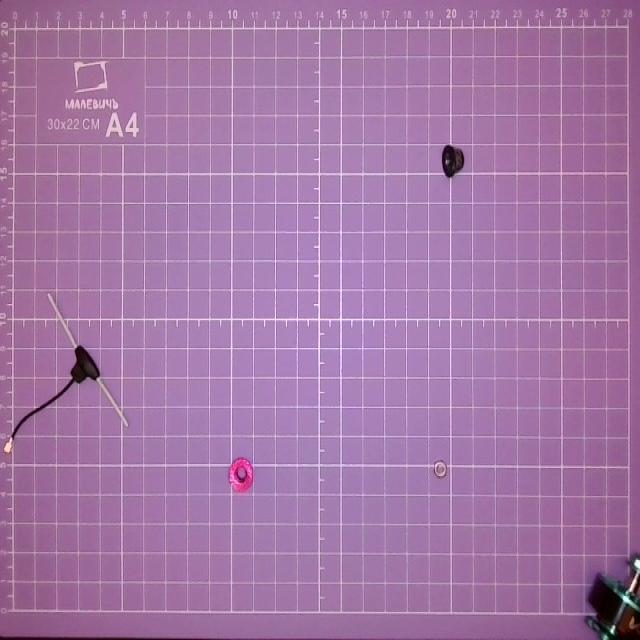antenna: (0, 290, 131, 460)
motor: (580, 550, 640, 640)
screw_M3: (428, 454, 452, 482)
screw_M5: (424, 141, 474, 184), (227, 447, 265, 502)
